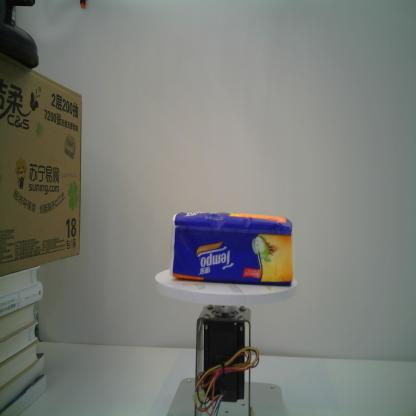Tissue: (168, 210, 295, 287)
